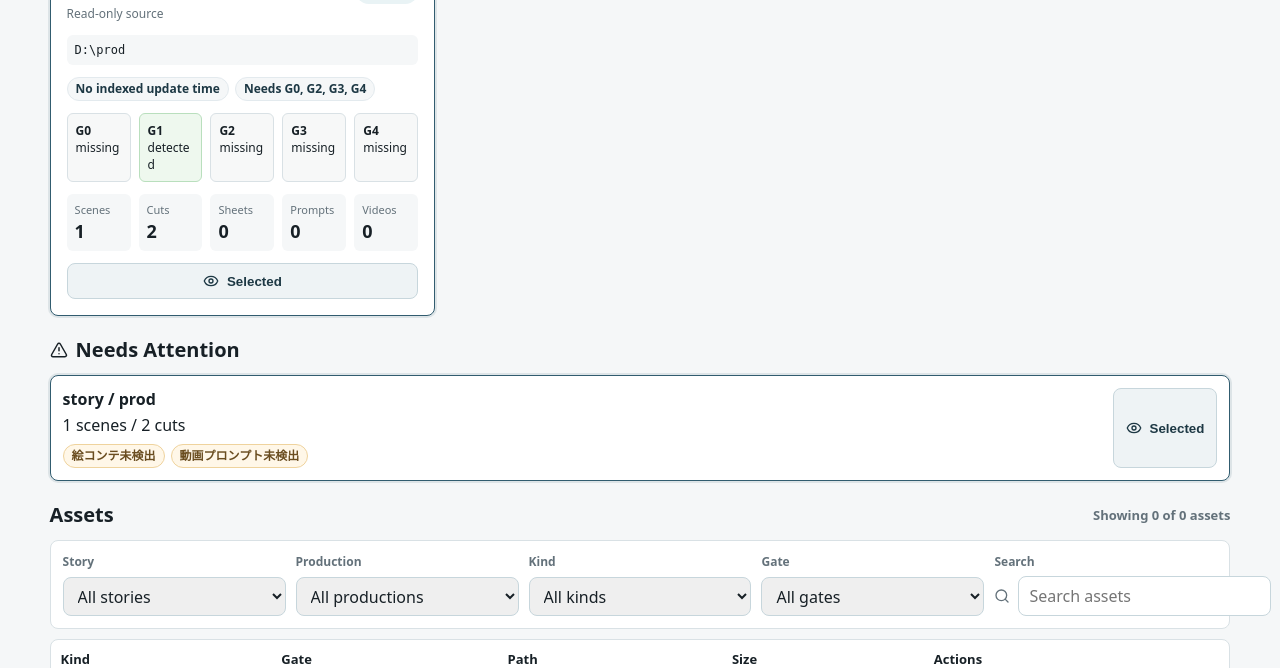
Test: App › opens selected production on a detail screen and returns to the dashboard
The width and height of the screenshot is (1280, 668).
(page scrolled)
Click the button with aria-label "Show details for story / prod".
click(242, 281)  # box [67,263,418,299]
(page scrolled)
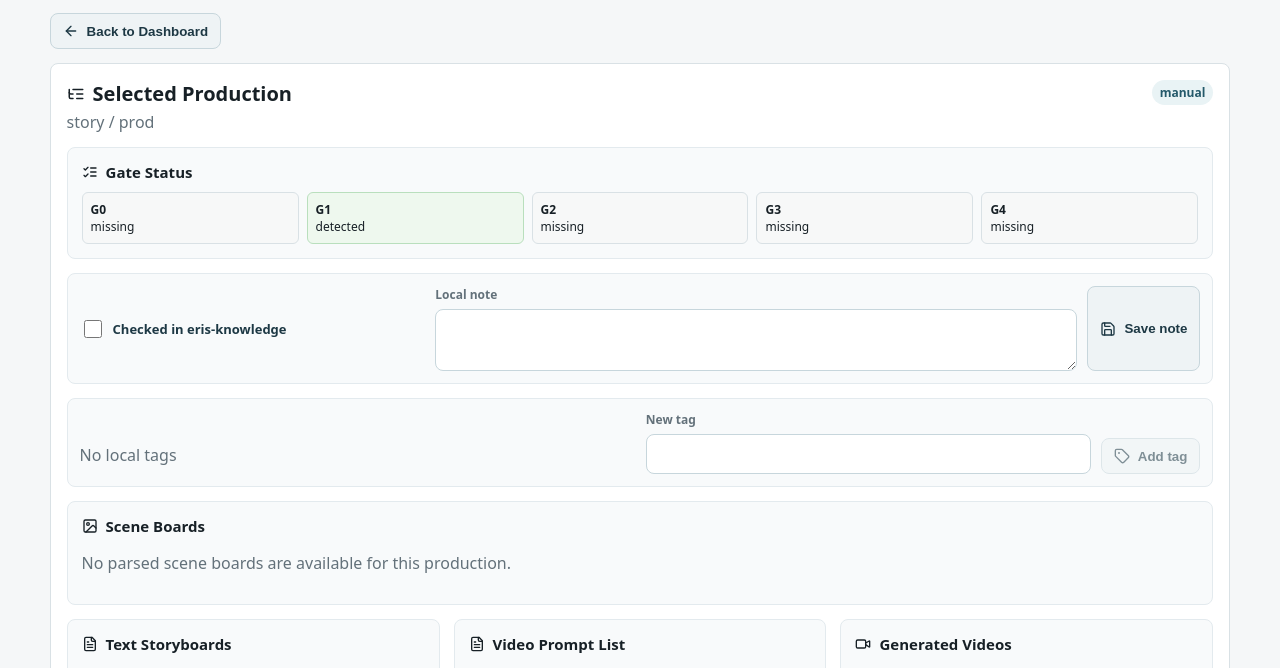
Expected: the button "Back to Dashboard" is shown
Expected: the heading "Selected Production" is shown, [67,80,292,107]
Click the button "Back to Dashboard".
click(135, 31)  # box [50,13,221,49]
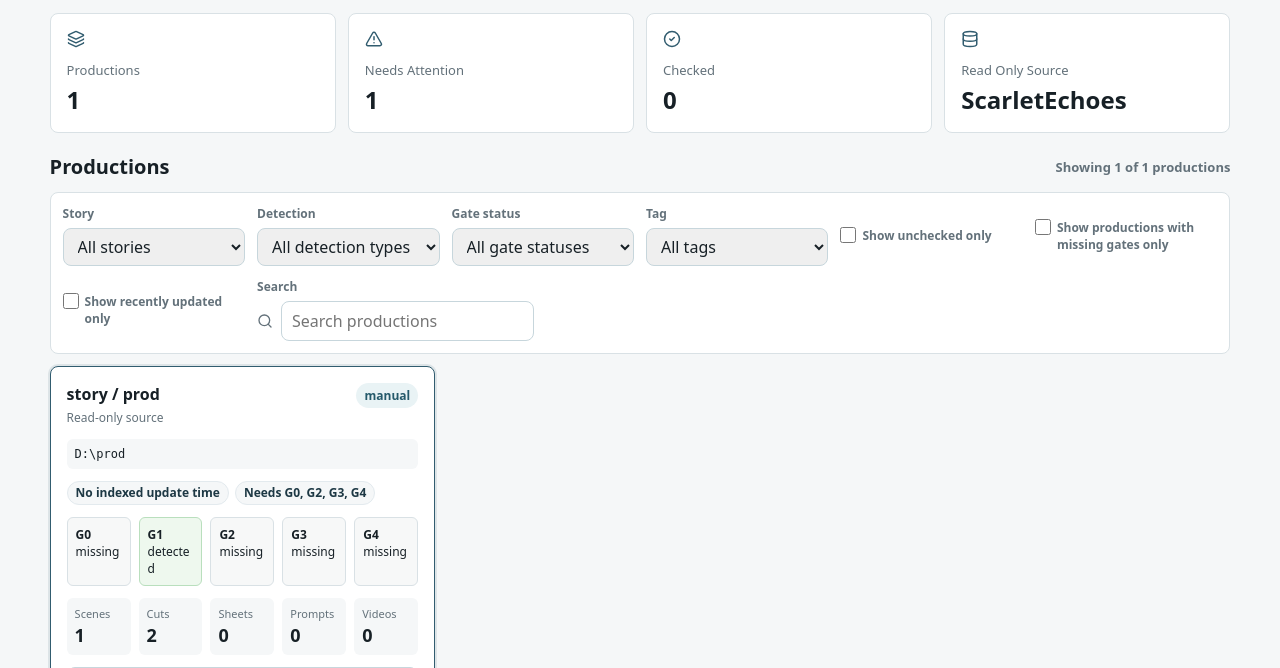
Expected: the element named "Dashboard" is shown, [50,13,1230,133]
Expected: the heading "Productions" is shown, [50,153,170,180]
